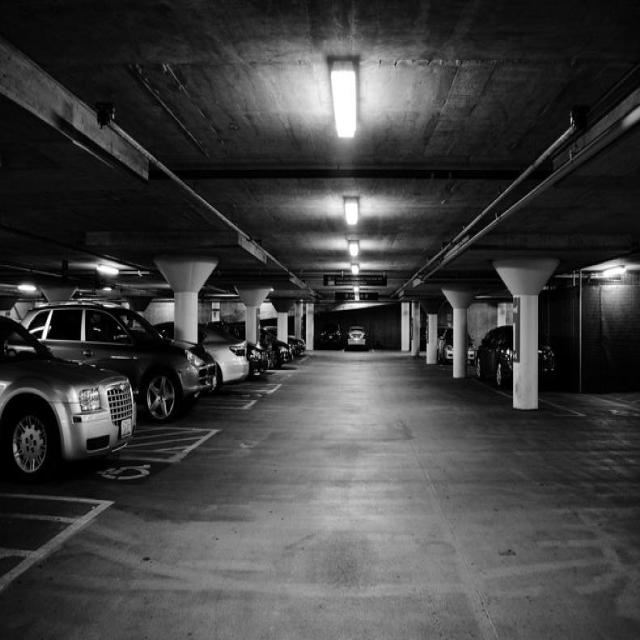pillar: (494, 259, 557, 408), (155, 256, 217, 341), (441, 286, 473, 378), (235, 286, 272, 344), (411, 300, 439, 364), (271, 298, 291, 342), (305, 302, 314, 350), (401, 302, 409, 351), (294, 301, 301, 338)
rebar: (0, 38, 308, 289), (393, 82, 639, 296)
